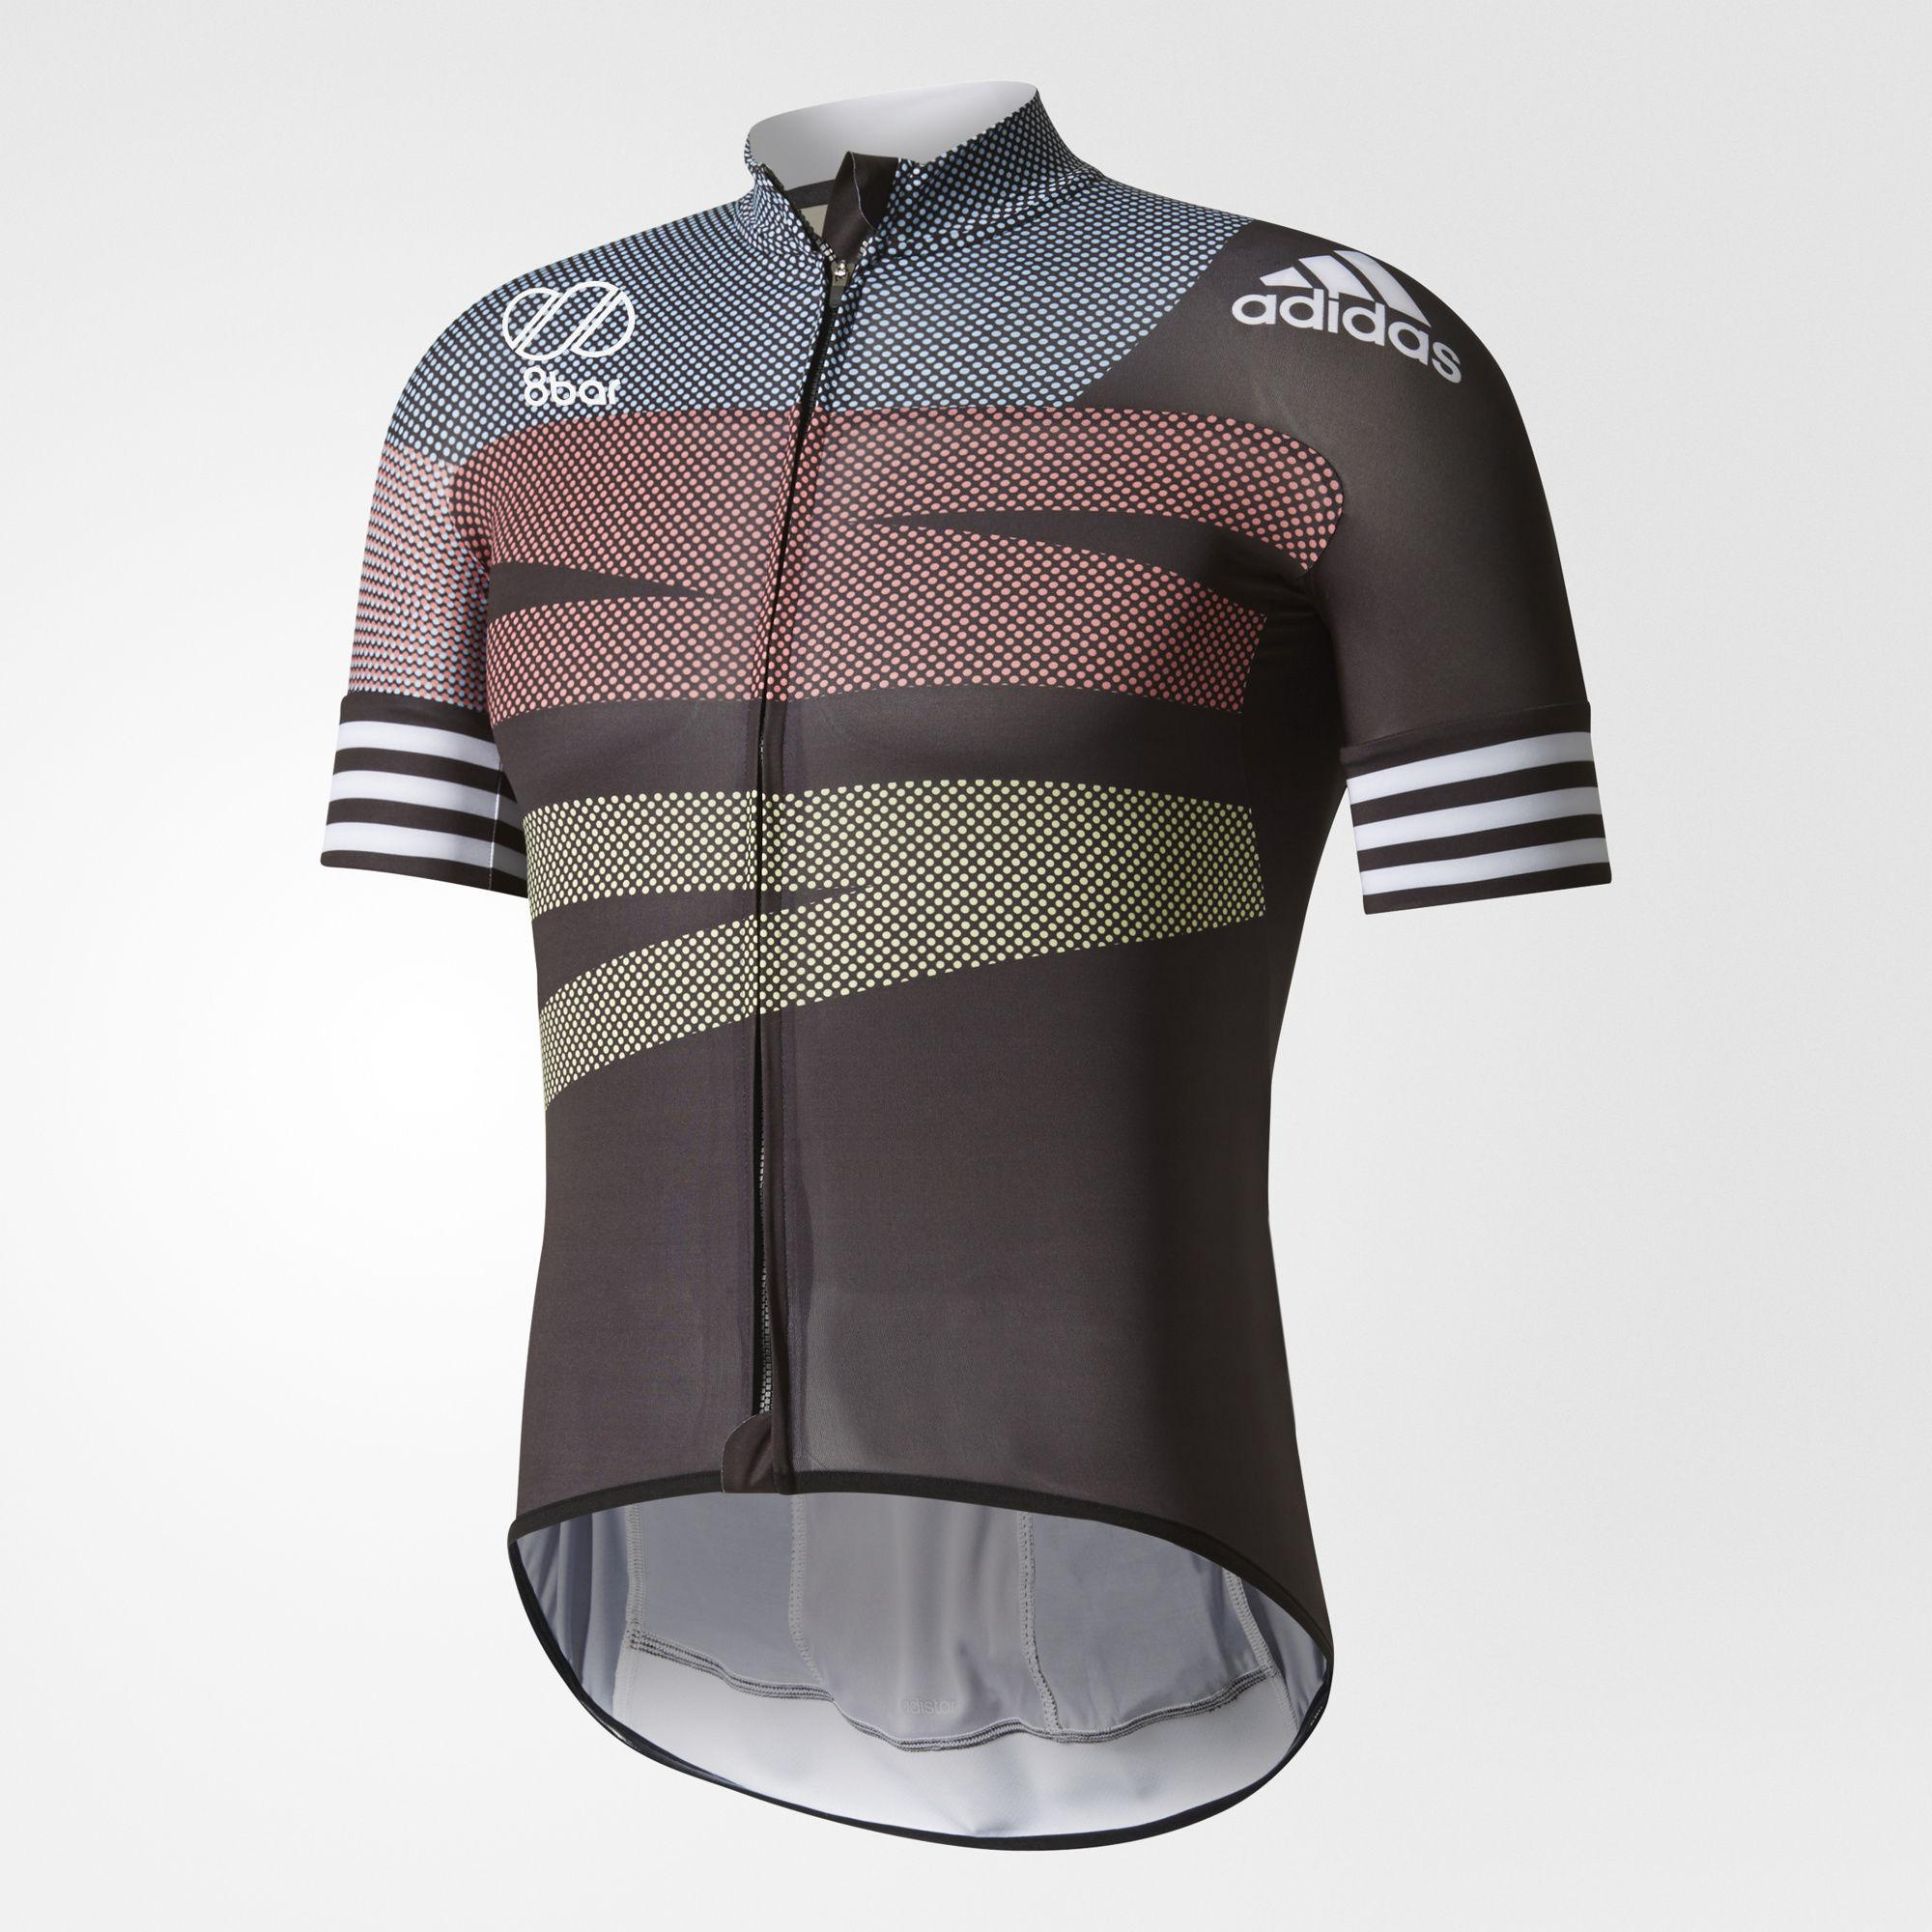teeshirt: (271, 55, 1637, 1932)
